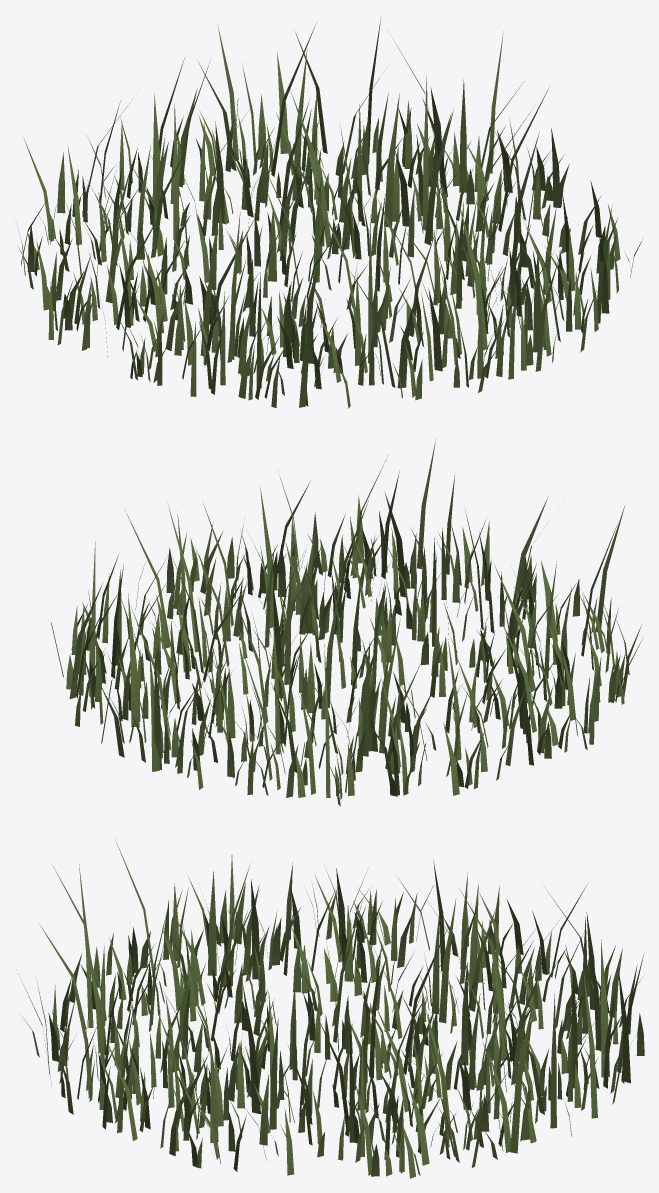
The model's file is grass_patch.glb.
The picture shows the model from 3 angles, top to bottom: view 1: azimuth 30°, elevation 25°; view 2: azimuth 150°, elevation 25°; view 3: azimuth 270°, elevation 25°; orthographic projection. The views are drawn at different scales.
Visible parts, largest first — view 1: grass_patch__lod0; view 2: grass_patch__lod0; view 3: grass_patch__lod0.
Boxes of the visible parts, x1=… form: grass_patch__lod0: x1=18, y1=16, x2=642, y2=408; grass_patch__lod0: x1=51, y1=439, x2=643, y2=806; grass_patch__lod0: x1=18, y1=839, x2=644, y2=1178.
Size of what is drawn, in the model's own units: 1.61 by 0.4189 by 1.67.
